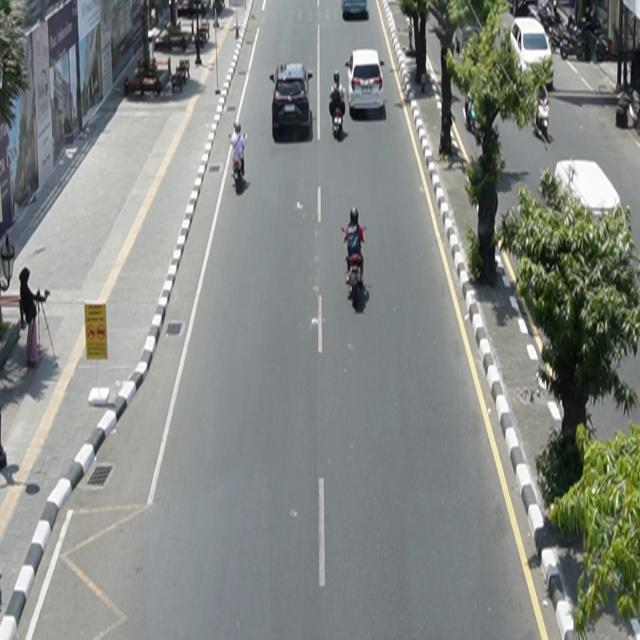car: (510, 9, 562, 101), (271, 62, 314, 134), (346, 49, 386, 112), (342, 1, 369, 19)
